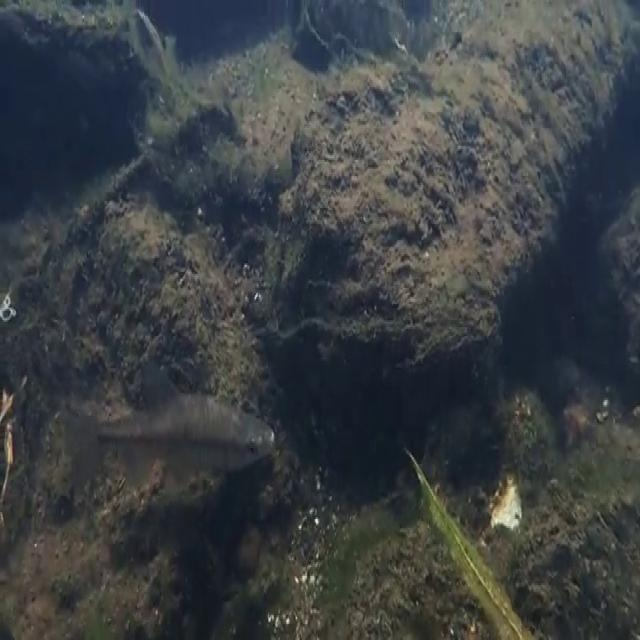Cakil Baligi: (65, 359, 284, 492)
